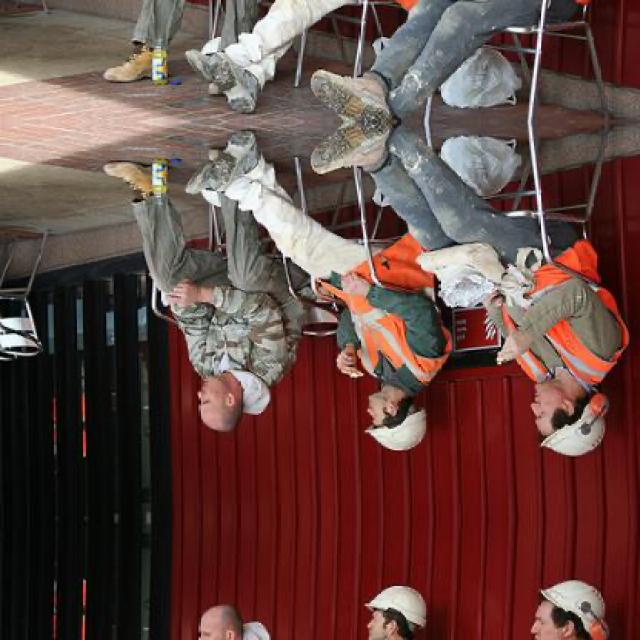con casco: (506, 366, 640, 466), (339, 374, 445, 474)
sin casco: (174, 364, 296, 451)
